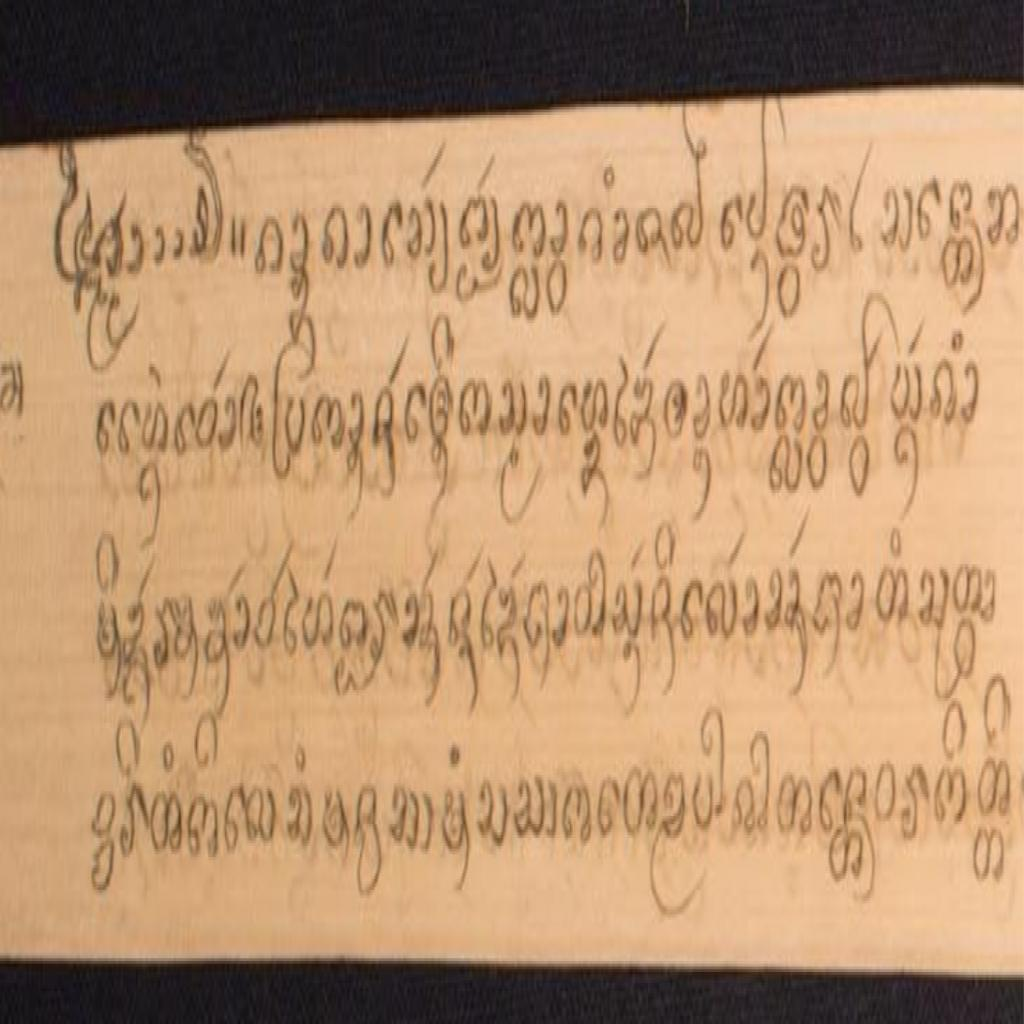LN016: (512, 770, 548, 848)
LN035: (874, 755, 900, 831)
